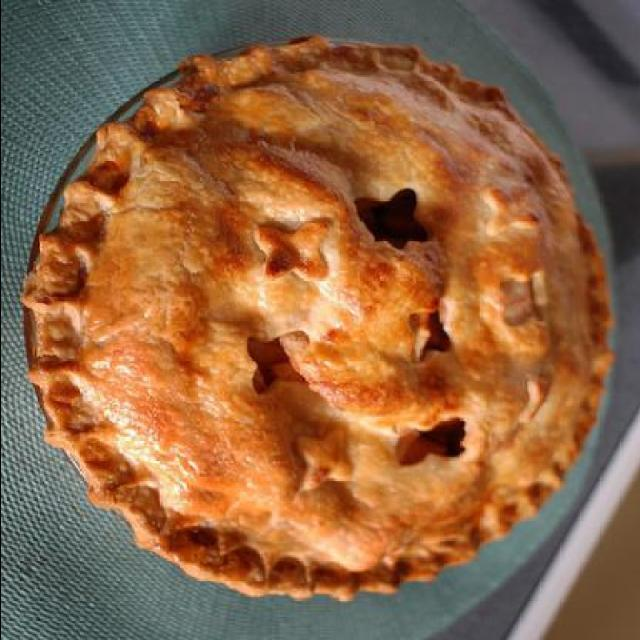Apple: (37, 28, 611, 590)
